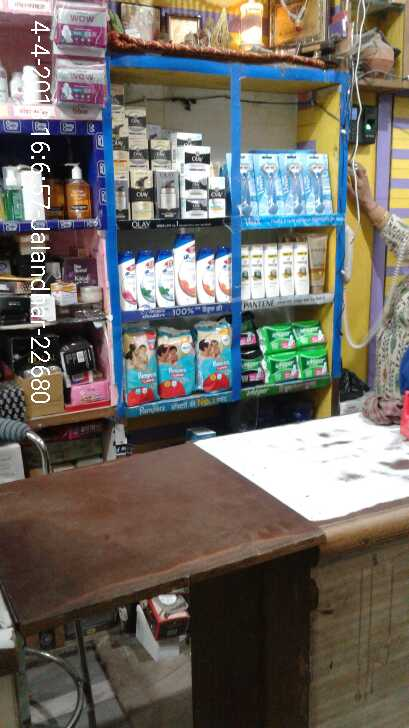venus: (283, 152, 303, 213), (308, 154, 329, 212), (259, 153, 278, 214), (241, 152, 254, 214)
